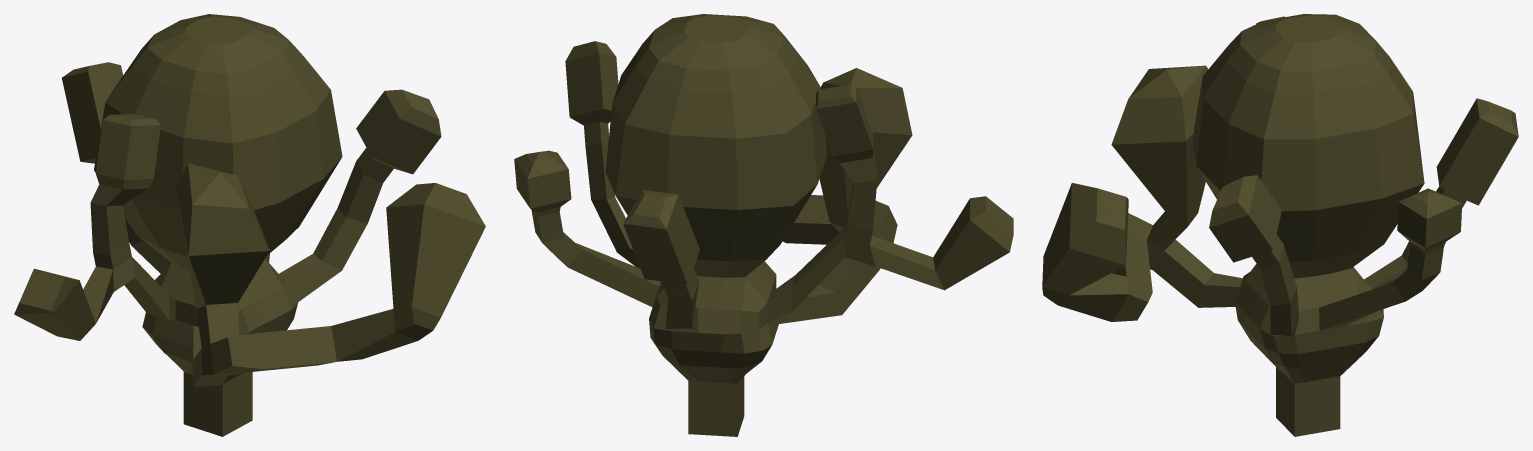
Rendered from S0.Cactus4.glb.
The picture shows the model from 3 angles, left to right: view 1: azimuth 30°, elevation 25°; view 2: azimuth 150°, elevation 25°; view 3: azimuth 270°, elevation 25°; orthographic projection.
Parts seen in each view (by area): view 1: Cube; view 2: Cube; view 3: Cube.
Part boxes in pixels (bbox=[...]): Cube: bbox=[14, 14, 485, 436]; Cube: bbox=[514, 14, 1013, 436]; Cube: bbox=[1042, 14, 1518, 436].
Size of the model in its own units: 8.01 by 7.04 by 7.71.
